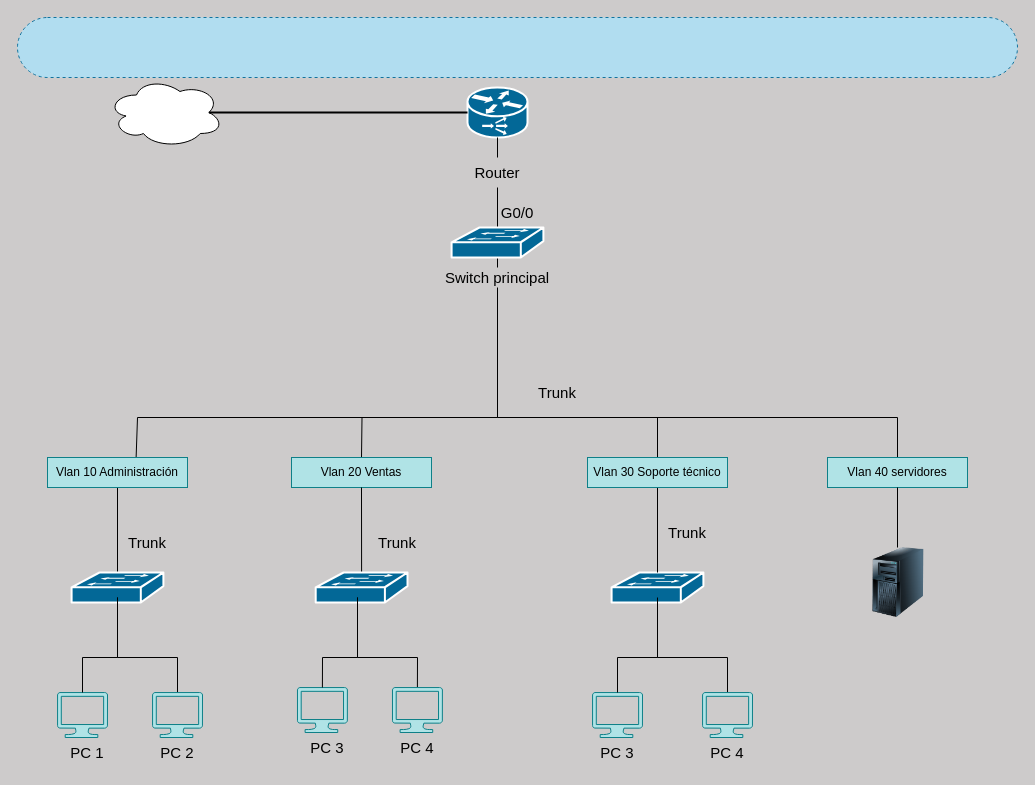
The diagram is 1035 pixels wide and 785 high, and some of its shapes have lost their labels. Each missing label, with the centre of its shape:
"Internet (ISP)" goes at (x=164, y=112).
"Red Empresa TechSolutions" goes at (x=517, y=47).
